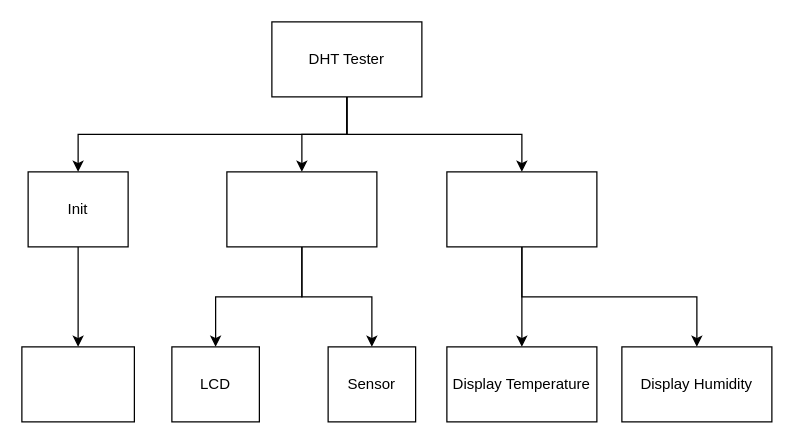
This 794x444 diagram has some shape labels left out. Each missing label, with the box of its shape:
Define DHT, LCD: (21, 346, 134, 422)
Loop: (446, 171, 597, 247)
Setup: (226, 171, 377, 247)
